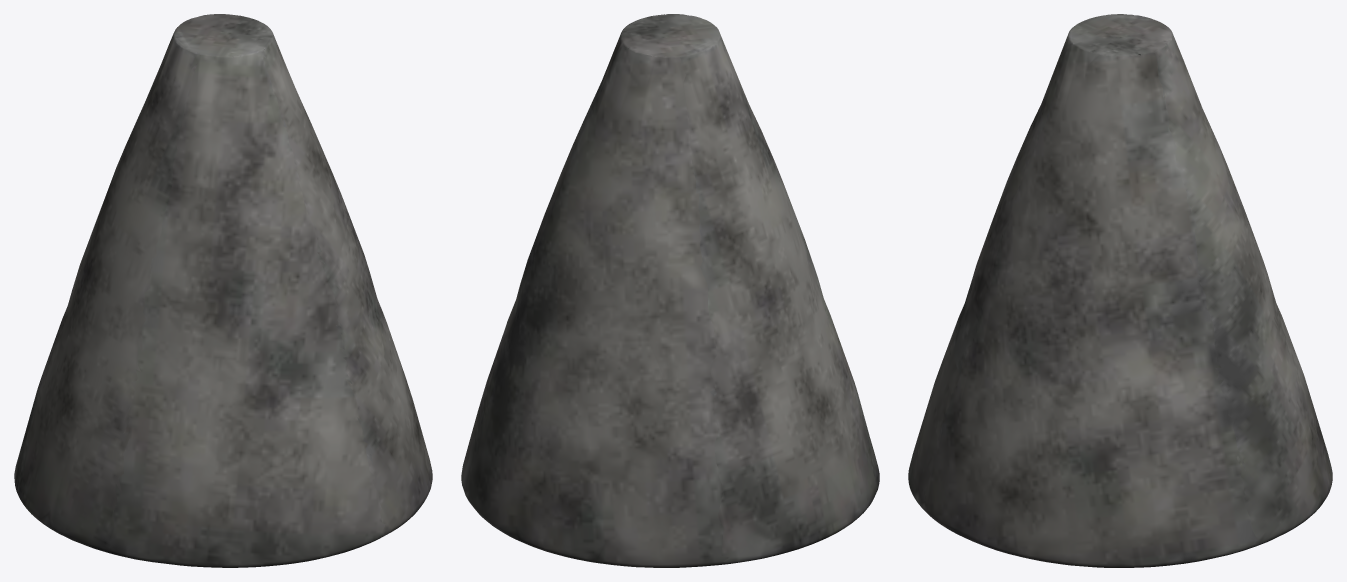
File: plain-granite-turret-top-v001.glb
3 renders of one model, left to right at view 1: azimuth 30°, elevation 25°; view 2: azimuth 150°, elevation 25°; view 3: azimuth 270°, elevation 25°, orthographic.
Visible parts, largest first — view 1: plain-granite-turret-top; view 2: plain-granite-turret-top; view 3: plain-granite-turret-top.
Boxes of the visible parts, left/top/right/bottom form: plain-granite-turret-top: left=14, top=14, right=432, bottom=567; plain-granite-turret-top: left=461, top=14, right=879, bottom=567; plain-granite-turret-top: left=908, top=14, right=1332, bottom=567.
Bounding box in the file's own units: 2.15 × 2.52 × 2.17.
Materials: 1 (1 with a texture image).
